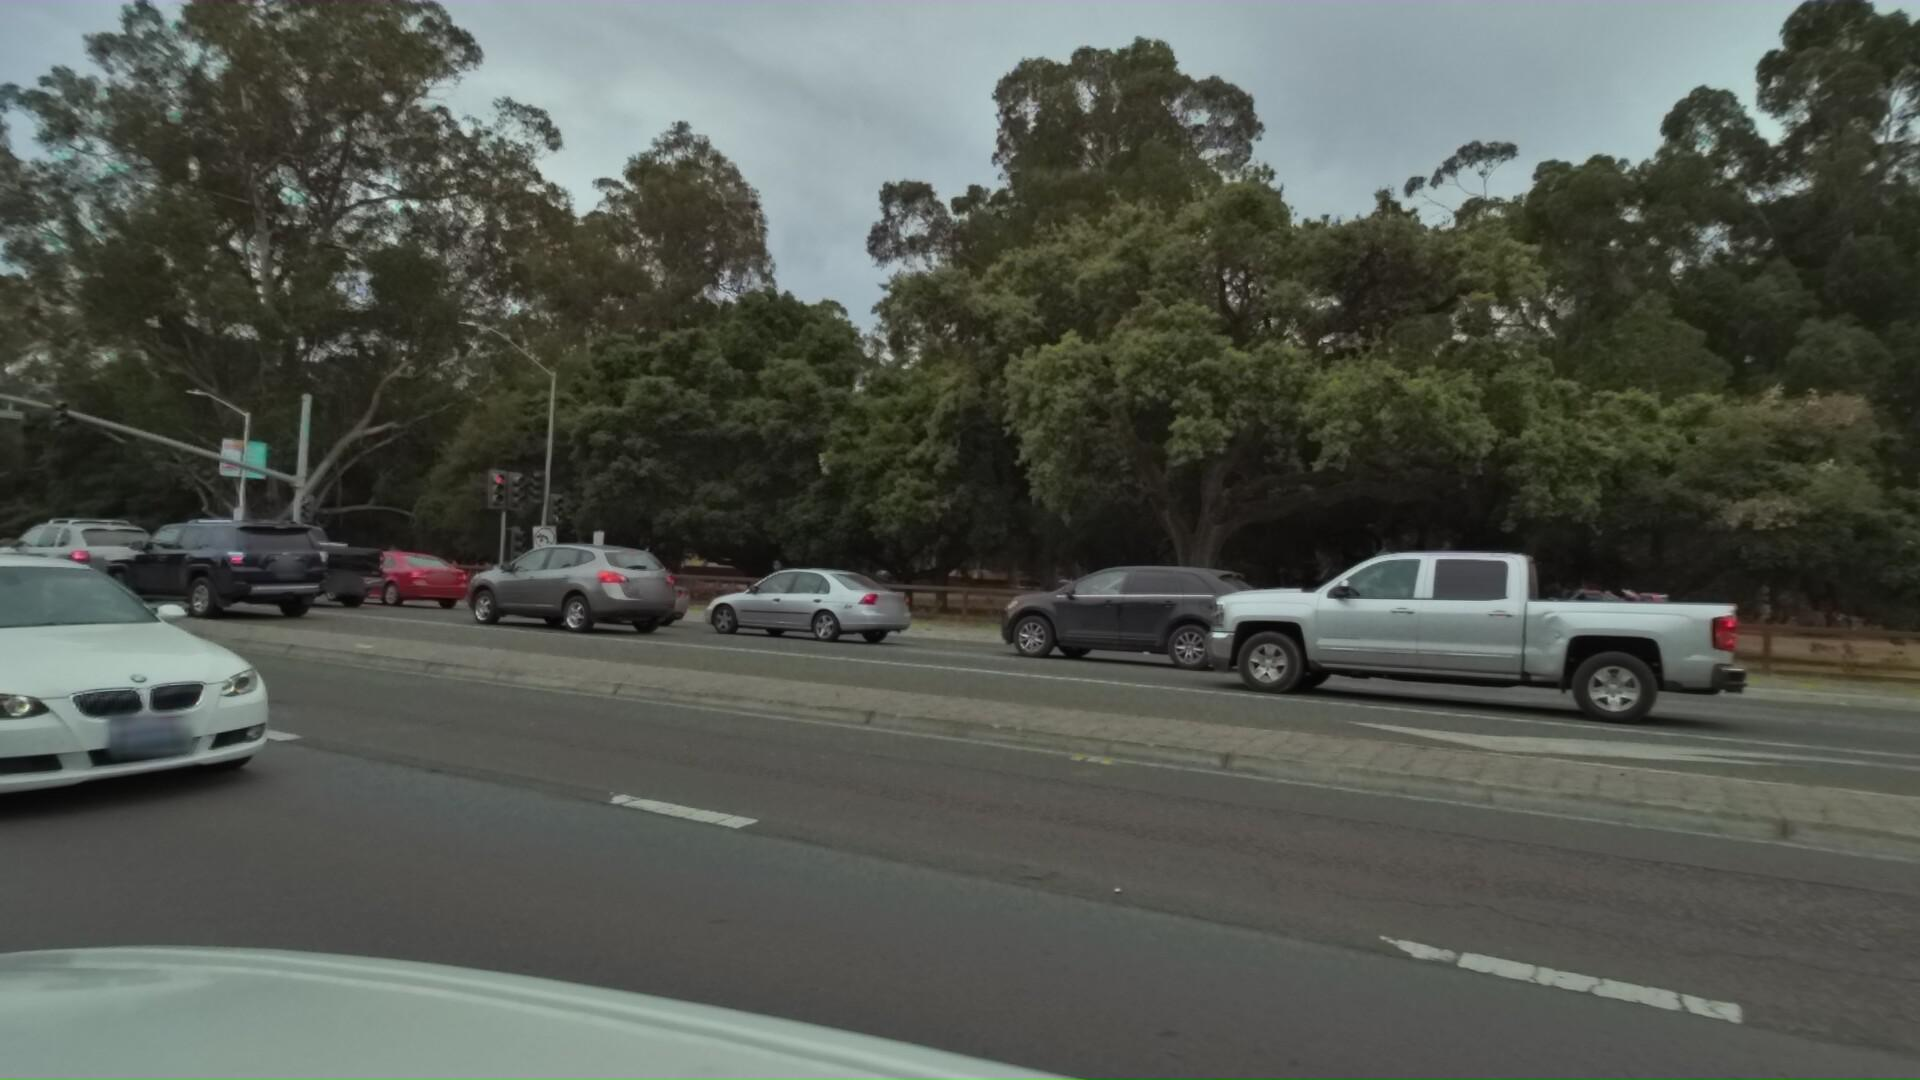car: (1135, 512, 1662, 731), (0, 525, 313, 837), (944, 551, 1255, 676), (75, 508, 323, 624), (433, 534, 674, 637), (158, 513, 386, 608), (673, 554, 902, 647), (0, 512, 167, 607), (483, 560, 679, 630), (295, 539, 465, 613)
